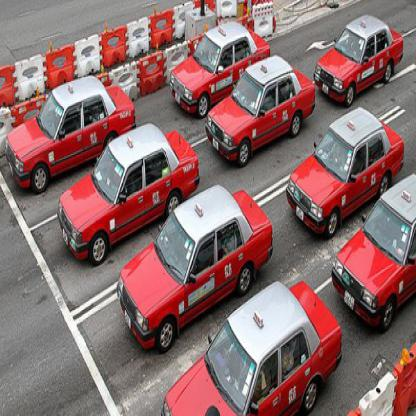taxi: (116, 181, 274, 363), (162, 278, 344, 416), (58, 121, 202, 269), (5, 73, 138, 196), (287, 108, 407, 242), (331, 174, 416, 335), (169, 18, 273, 119), (316, 13, 405, 108)
